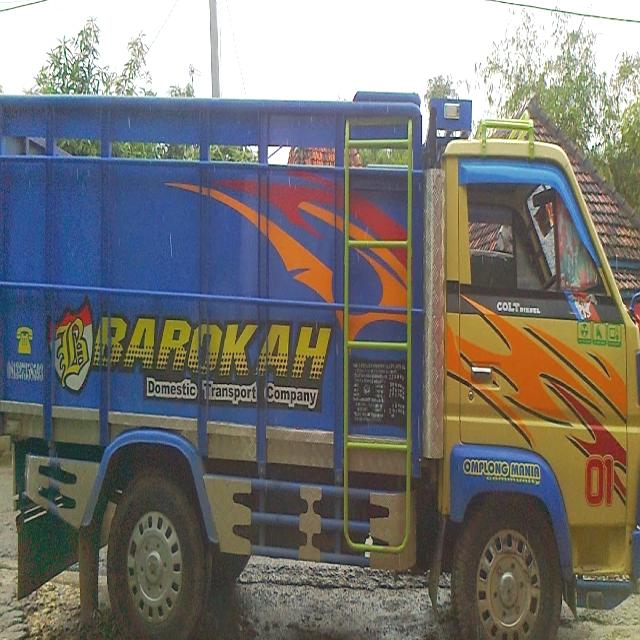truck: (2, 81, 640, 640)
